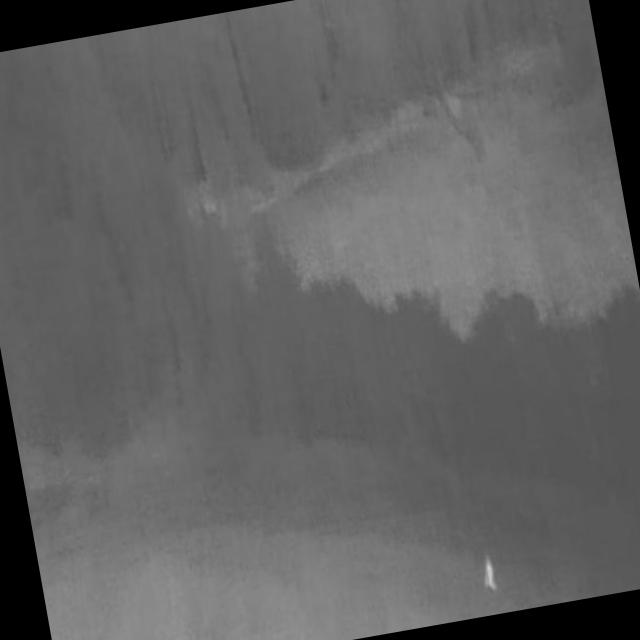person: (479, 552, 500, 599)
